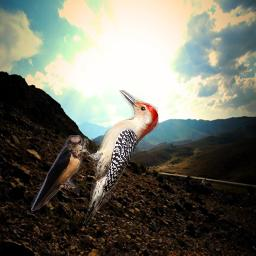Swallow: (31, 135, 83, 213)
Woodpecker: (71, 90, 160, 224)
